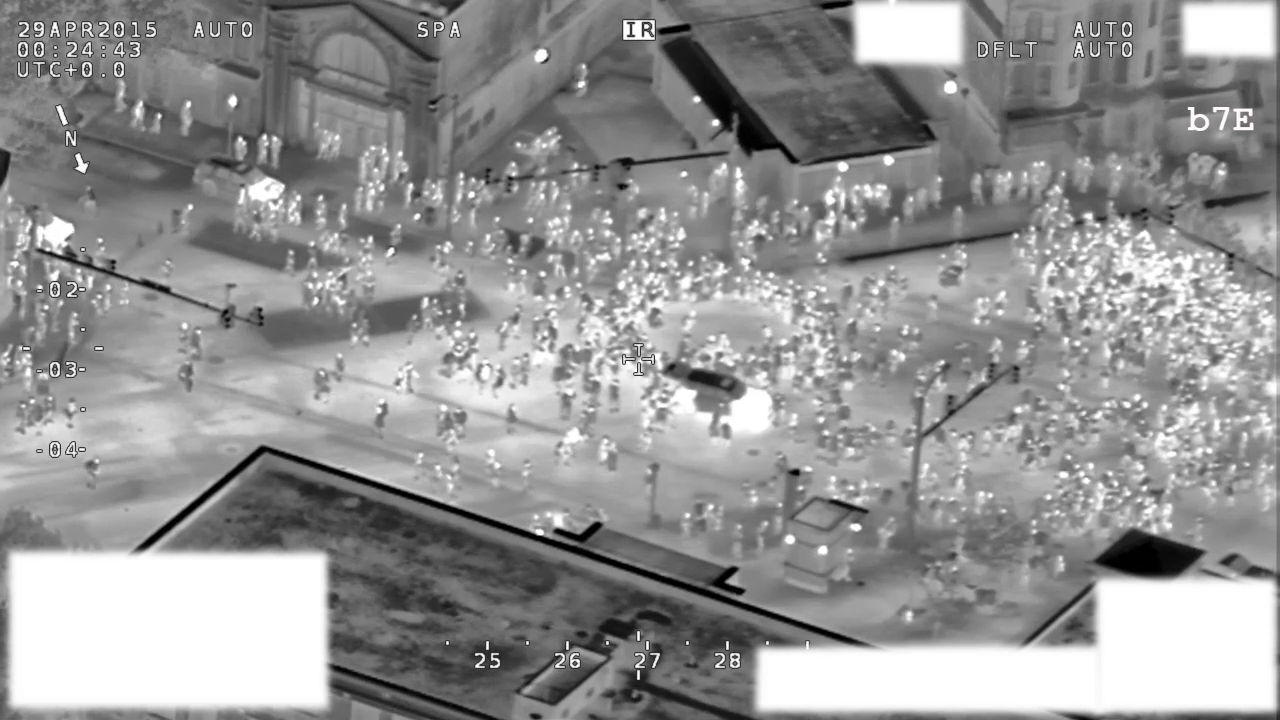vehicle: (652, 355, 781, 438), (186, 150, 292, 211), (7, 198, 76, 260)
